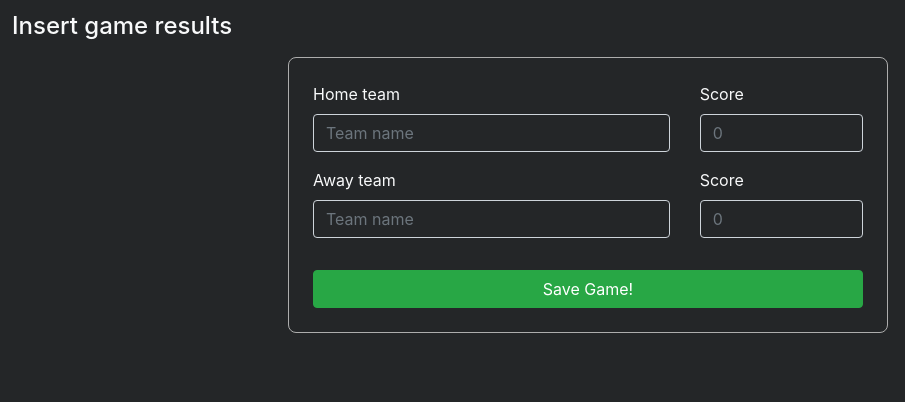
Test: Calls ApiService.saveGame in each case of submitting and manage error › Form submitting must render specific errors from the api response
The width and height of the screenshot is (905, 402).
Click the button "Save Game!". click: [588, 289]
box: [313,270,863,308]
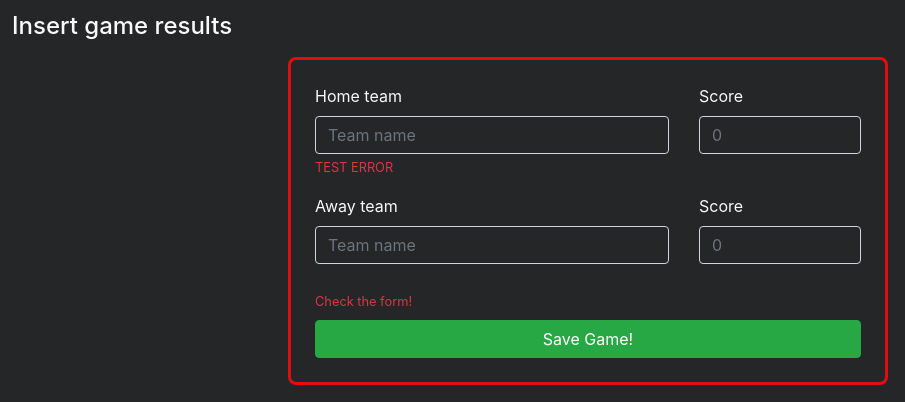
Expected: the text with id "homeName-error" reads "TEST ERROR", [315,160,393,175]
